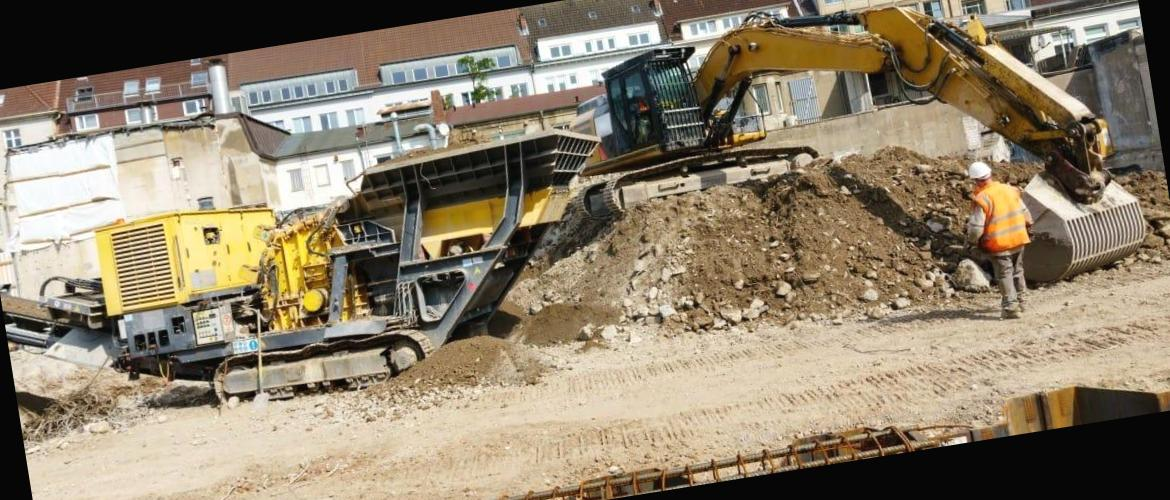helmet: (964, 154, 999, 190)
person: (952, 150, 1050, 330)
